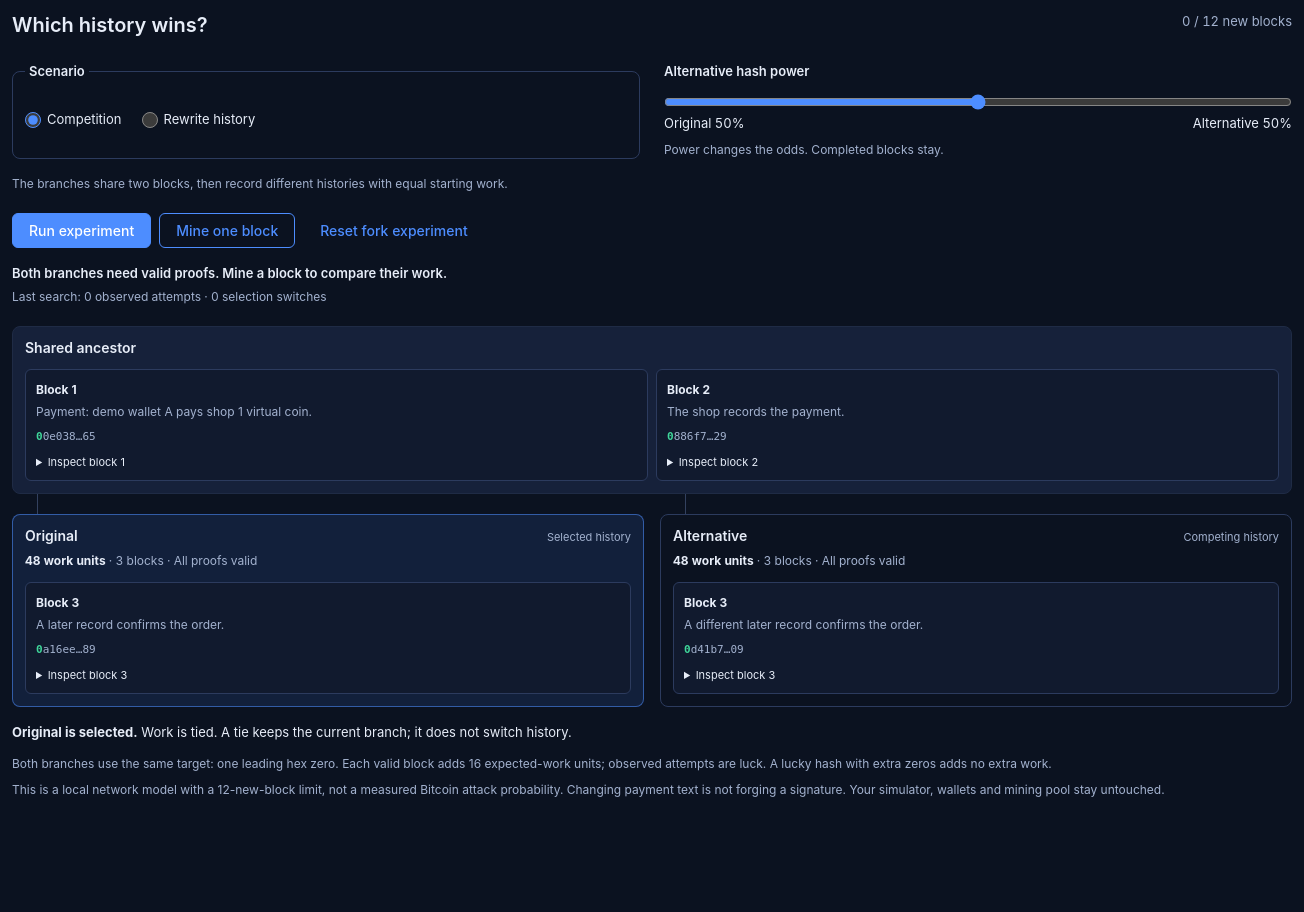
Scenario: ForkExperiment › starts fresh and clears partial lesson evidence on reset
Click the button "Mine one block": (227, 230) [159,213,295,248]
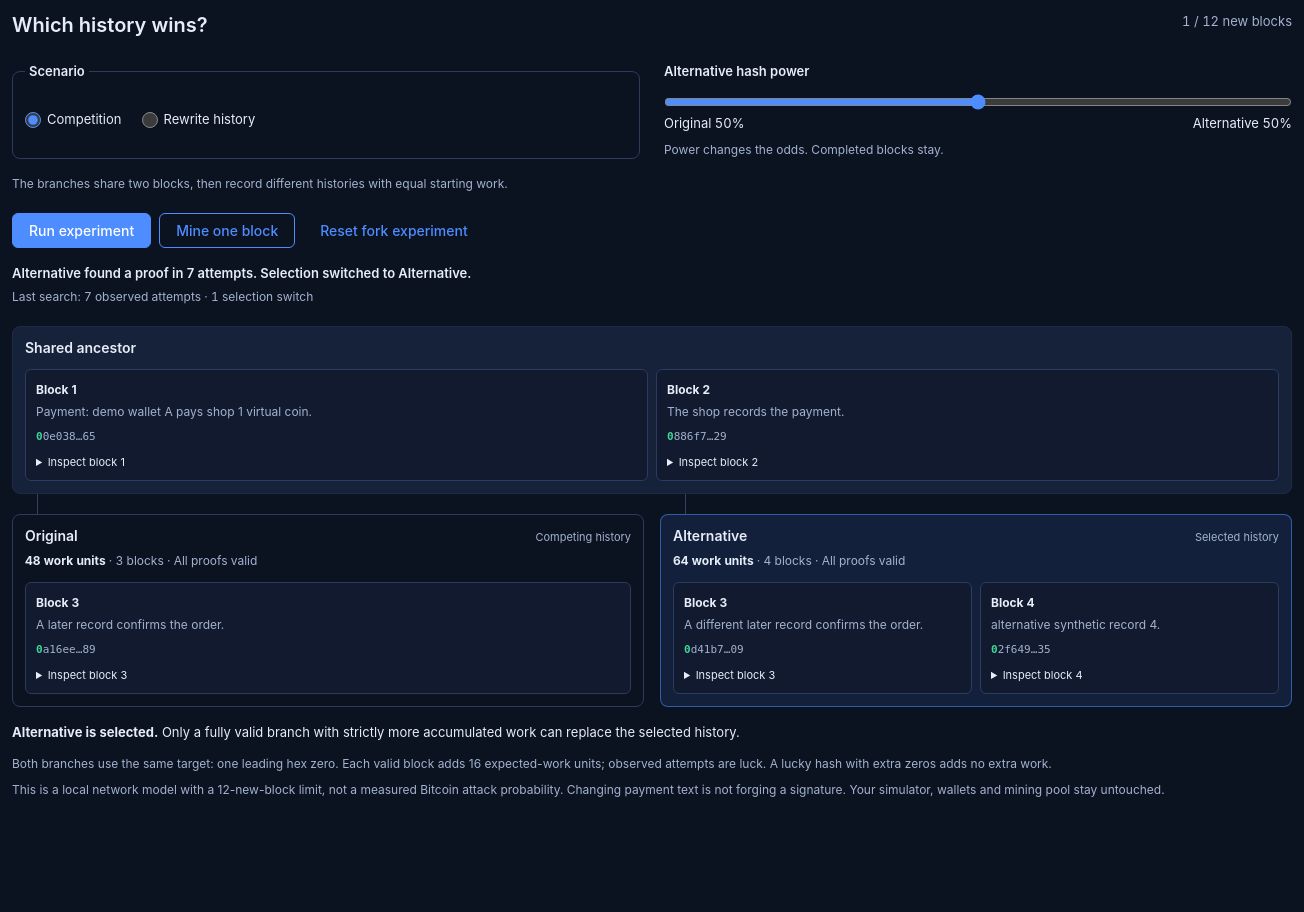
Click the button "Reset fork experiment": (394, 230) [303,213,485,248]
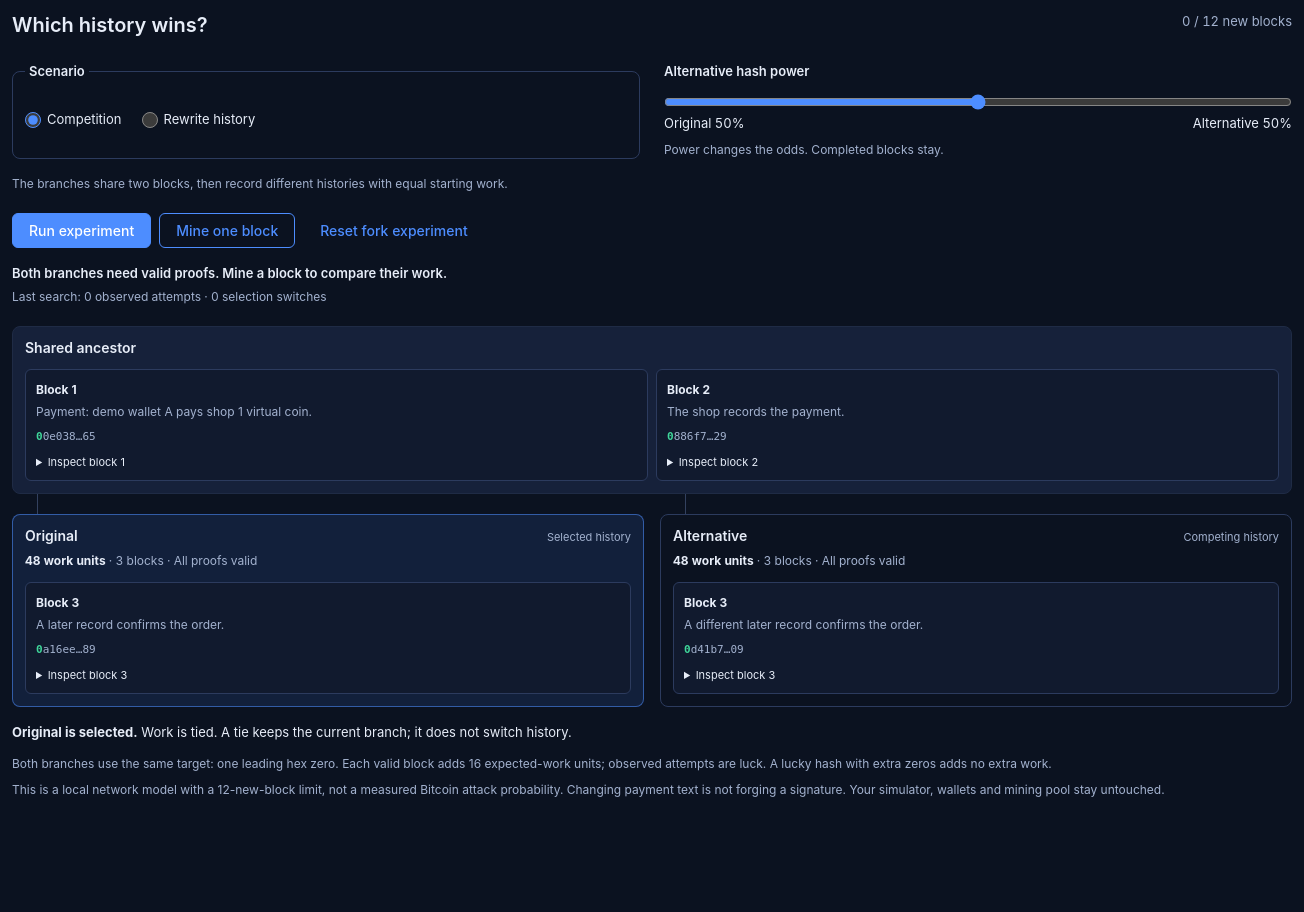
Expected: the text "0 / 12 new blocks" is shown, [1182,12,1292,32]
Expected: the text "Original is selected." is shown, [12,724,138,740]
